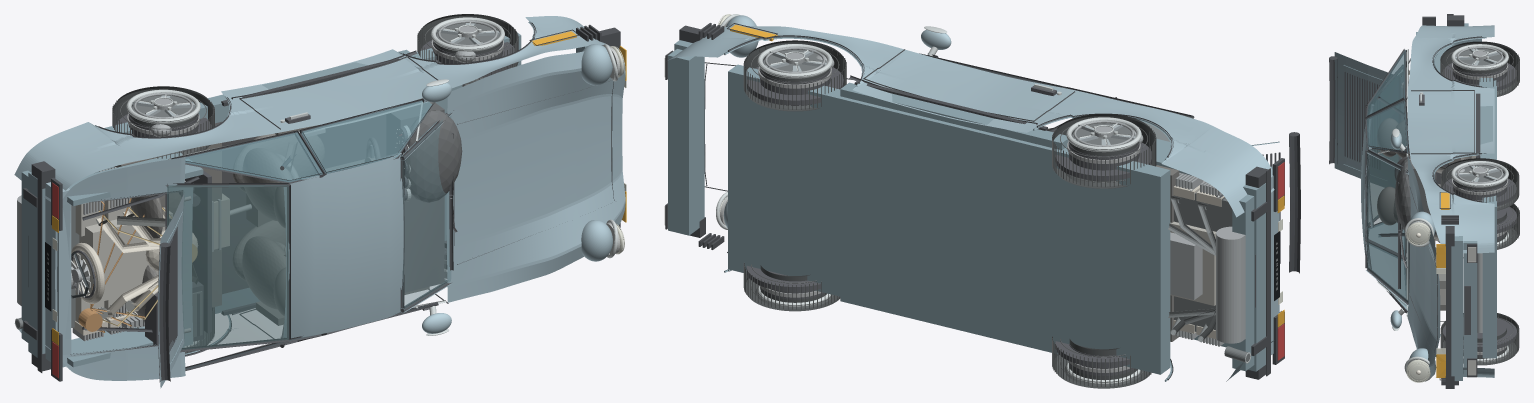
Rendered from Borsche_911_1981_Smooth_Engine_Open.glb.
3 renders of one model, left to right at view 1: azimuth 30°, elevation 25°; view 2: azimuth 150°, elevation 25°; view 3: azimuth 270°, elevation 25°, orthographic. The views are drawn at different scales.
Visible parts, largest first — view 1: fixed__paint, fixed__rear_glass, fixed__rubber, fixed__leather, fixed__side_glass, fixed__paint_shadow, fixed__dashboard, fixed__glass, fixed__silhouette, fixed__engine, fixed__interior, fixed__alloy (+17 smaller); view 2: fixed__paint_shadow, fixed__paint, fixed__alloy, fixed__rubber, fixed__silhouette, fixed__tire, fixed__tire_tread, fixed__dark_metal, fixed__chrome, lid__rubber, fixed__brake, fixed__engine (+4 smaller); view 3: fixed__paint, fixed__paint_shadow, fixed__rubber, fixed__glass, fixed__side_glass, lid__paint, fixed__silhouette, fixed__tire, fixed__tire_tread, fixed__chrome, fixed__rear_glass, fixed__leather (+13 smaller).
Boxes of the visible parts, box(x1,y1,x2,y2) form: fixed__paint: box(14, 16, 625, 380); fixed__rear_glass: box(167, 185, 288, 349); fixed__rubber: box(23, 22, 620, 381); fixed__leather: box(114, 98, 429, 325); fixed__side_glass: box(185, 100, 432, 368); fixed__paint_shadow: box(21, 21, 618, 367); fixed__dashboard: box(386, 102, 462, 292); fixed__glass: box(402, 112, 451, 308); fixed__silhouette: box(28, 33, 514, 344); fixed__engine: box(75, 193, 229, 322); fixed__interior: box(215, 114, 396, 293); fixed__alloy: box(17, 20, 497, 341); fixed__paint_shadow: box(668, 36, 1272, 381); fixed__paint: box(668, 15, 1279, 381); fixed__alloy: box(765, 47, 1245, 346); fixed__rubber: box(665, 23, 1284, 380); fixed__silhouette: box(746, 53, 1255, 375); fixed__tire: box(744, 40, 1155, 388); fixed__tire_tread: box(743, 46, 1156, 386); fixed__dark_metal: box(763, 49, 1250, 362); fixed__chrome: box(716, 14, 1250, 384); lid__rubber: box(1289, 132, 1300, 273); fixed__brake: box(758, 67, 1140, 372); fixed__engine: box(1170, 221, 1216, 305); fixed__paint: box(1361, 25, 1494, 377); fixed__paint_shadow: box(1416, 23, 1496, 380); fixed__rubber: box(1365, 14, 1482, 388); fixed__glass: box(1367, 151, 1409, 303); fixed__side_glass: box(1366, 49, 1407, 310); lid__paint: box(1334, 52, 1403, 187); fixed__silhouette: box(1404, 58, 1516, 356); fixed__tire: box(1441, 41, 1519, 365); fixed__tire_tread: box(1440, 51, 1519, 364); fixed__chrome: box(1377, 44, 1508, 381); fixed__rear_glass: box(1368, 66, 1403, 224); fixed__leather: box(1377, 118, 1471, 310).
Size of the model in its own units: 4.32 by 1.8 by 1.59.
37 materials, 3 textured.
